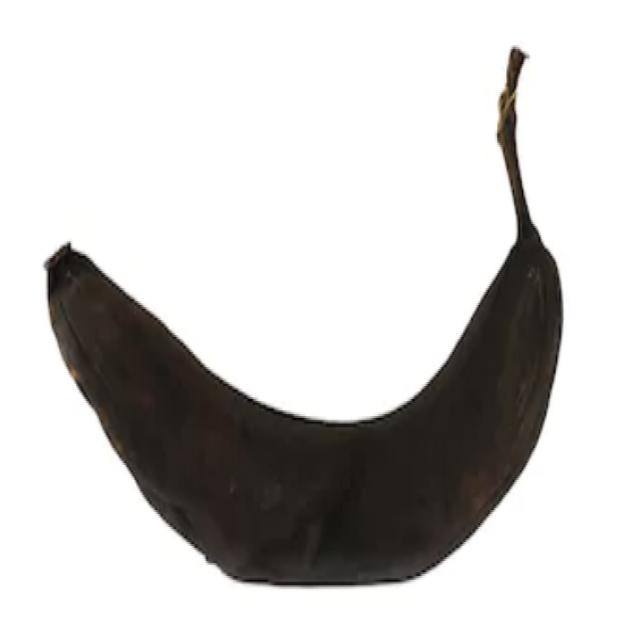rotten-banana: (41, 101, 564, 585)
